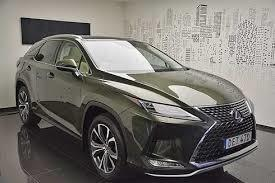license-plates: (228, 132, 253, 150)
